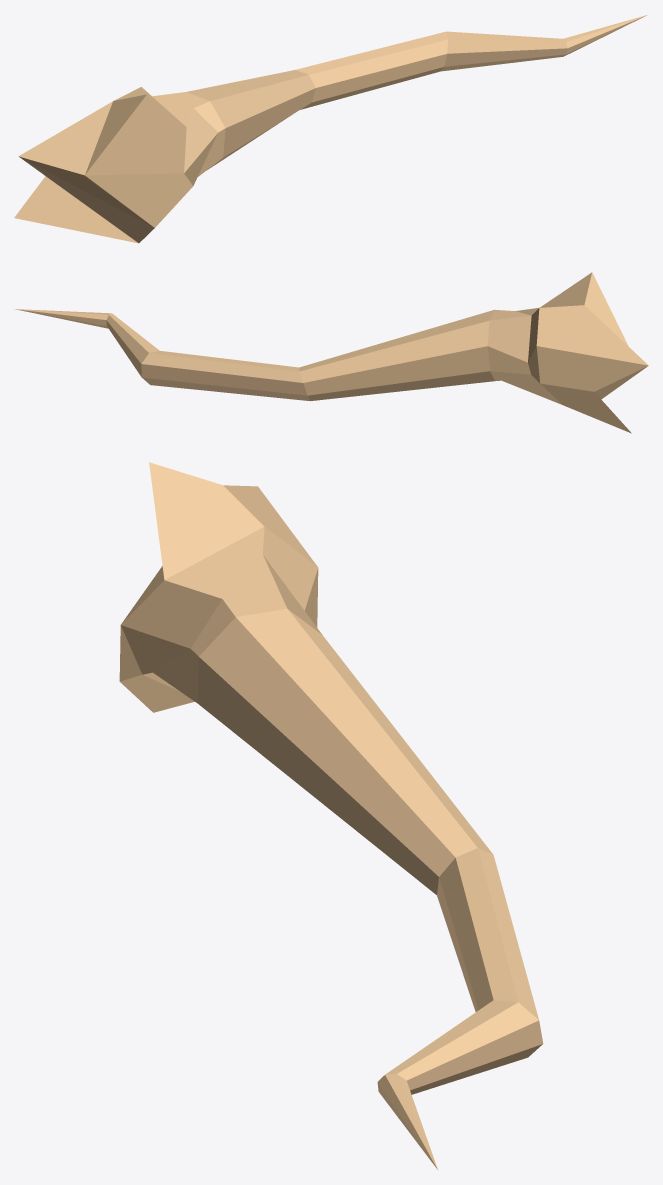
The model's file is Branch 7.fbx.
3 views of the same model, one above another, from view 1: azimuth 30°, elevation 25°; view 2: azimuth 150°, elevation 25°; view 3: azimuth 270°, elevation 25° (orthographic). The views are drawn at different scales.
Parts seen in each view (by area): view 1: Branch 7; view 2: Branch 7; view 3: Branch 7.
Part boxes in pixels (bbox=[...]): Branch 7: bbox=[14, 15, 647, 243]; Branch 7: bbox=[14, 272, 648, 433]; Branch 7: bbox=[119, 462, 543, 1169].
Size of the model in its own units: 47.82 by 9.96 by 14.87.
